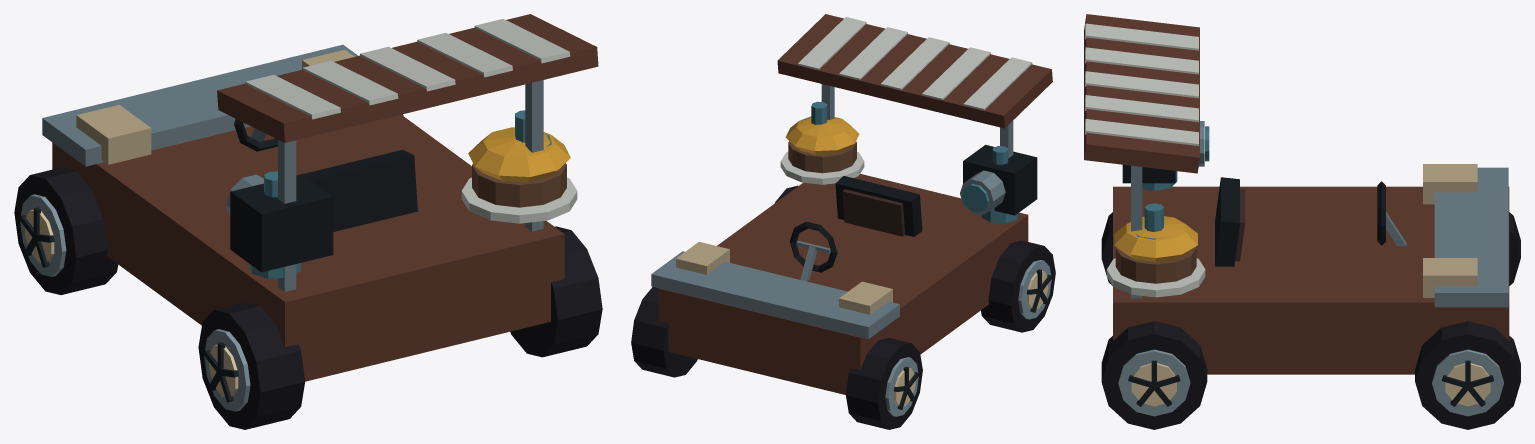
File: kart.glb
The picture shows the model from 3 angles, left to right: view 1: azimuth 30°, elevation 25°; view 2: azimuth 150°, elevation 25°; view 3: azimuth 270°, elevation 25°; orthographic projection. The views are drawn at different scales.
Parts seen in each view (by area): view 1: identity-food-cart-food-cart-counter-and-awning, wheel-rear-left, wheel-front-left, identity-food-cart-motif-food, identity-food-cart-motif-camera, identity-food-cart-driver-cockpit, wheel-rear-right, identity-food-cart-motif-bottles; view 2: identity-food-cart-food-cart-counter-and-awning, wheel-front-left, identity-food-cart-driver-cockpit, wheel-rear-left, identity-food-cart-motif-food, identity-food-cart-motif-camera, wheel-front-right, identity-food-cart-motif-bottles; view 3: identity-food-cart-food-cart-counter-and-awning, wheel-rear-right, wheel-front-right, identity-food-cart-motif-food, identity-food-cart-driver-cockpit, identity-food-cart-motif-camera, identity-food-cart-motif-bottles, wheel-front-left, wheel-rear-left.
Part boxes in pixels (left/top/right/bottom): identity-food-cart-food-cart-counter-and-awning: left=42, top=14, right=598, bottom=381; wheel-rear-left: left=198, top=302, right=305, bottom=429; wheel-front-left: left=14, top=167, right=118, bottom=294; identity-food-cart-motif-food: left=461, top=127, right=577, bottom=223; identity-food-cart-motif-camera: left=226, top=174, right=333, bottom=272; identity-food-cart-driver-cockpit: left=234, top=119, right=417, bottom=231; wheel-rear-right: left=510, top=226, right=602, bottom=357; identity-food-cart-motif-bottles: left=249, top=110, right=551, bottom=278; identity-food-cart-food-cart-counter-and-awning: left=651, top=14, right=1052, bottom=394; wheel-front-left: left=846, top=338, right=922, bottom=429; identity-food-cart-driver-cockpit: left=789, top=176, right=922, bottom=281; wheel-rear-left: left=981, top=240, right=1055, bottom=332; identity-food-cart-motif-food: left=780, top=116, right=864, bottom=184; identity-food-cart-motif-camera: left=960, top=144, right=1037, bottom=215; wheel-front-right: left=631, top=287, right=697, bottom=377; identity-food-cart-motif-bottles: left=801, top=101, right=1019, bottom=223; identity-food-cart-food-cart-counter-and-awning: left=1084, top=14, right=1509, bottom=374; wheel-rear-right: left=1101, top=321, right=1207, bottom=429; wheel-front-right: left=1415, top=321, right=1520, bottom=429; identity-food-cart-motif-food: left=1106, top=216, right=1205, bottom=297; identity-food-cart-driver-cockpit: left=1215, top=177, right=1406, bottom=266; identity-food-cart-motif-camera: left=1122, top=121, right=1209, bottom=183; identity-food-cart-motif-bottles: left=1128, top=171, right=1177, bottom=255; wheel-front-left: left=1509, top=212, right=1520, bottom=285; wheel-rear-left: left=1101, top=212, right=1112, bottom=285.
Bounding box in the file's own units: 2.03 × 1.76 × 2.48.
